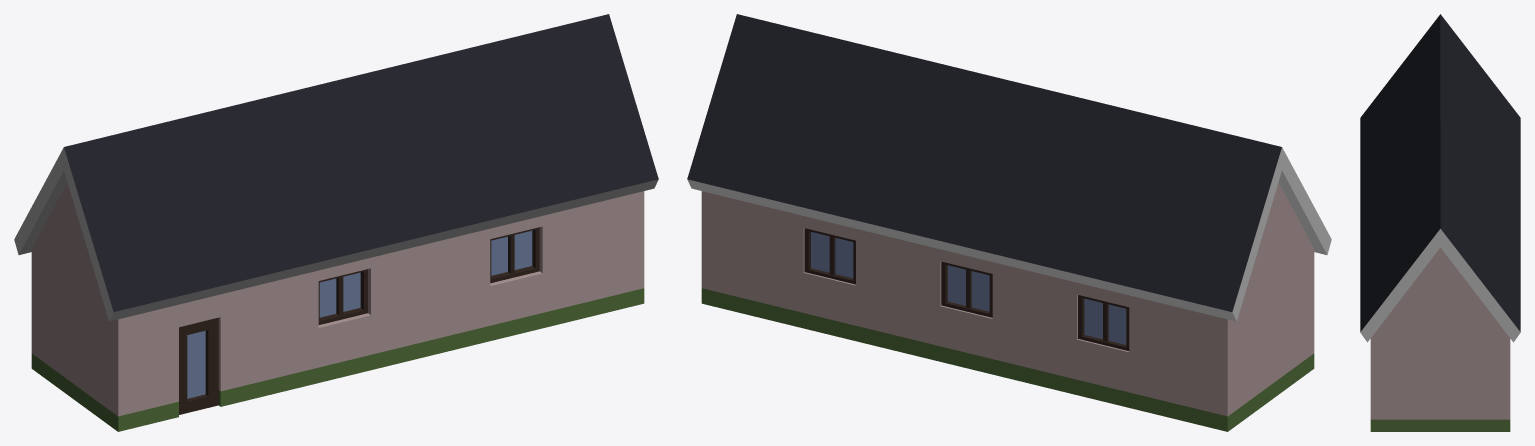
File: FamilyHouse_02.fbx
3 views of the same model, side by side, from view 1: azimuth 30°, elevation 25°; view 2: azimuth 150°, elevation 25°; view 3: azimuth 270°, elevation 25° (orthographic). The views are drawn at different scales.
Visible parts, largest first — view 1: FamilyHouse_02; view 2: FamilyHouse_02; view 3: FamilyHouse_02.
Boxes of the visible parts, left/top/right/bottom form: FamilyHouse_02: left=14, top=14, right=658, bottom=431; FamilyHouse_02: left=687, top=14, right=1331, bottom=431; FamilyHouse_02: left=1360, top=14, right=1520, bottom=431.
Bounding box in the file's own units: 14.87 × 6.67 × 4.7.
